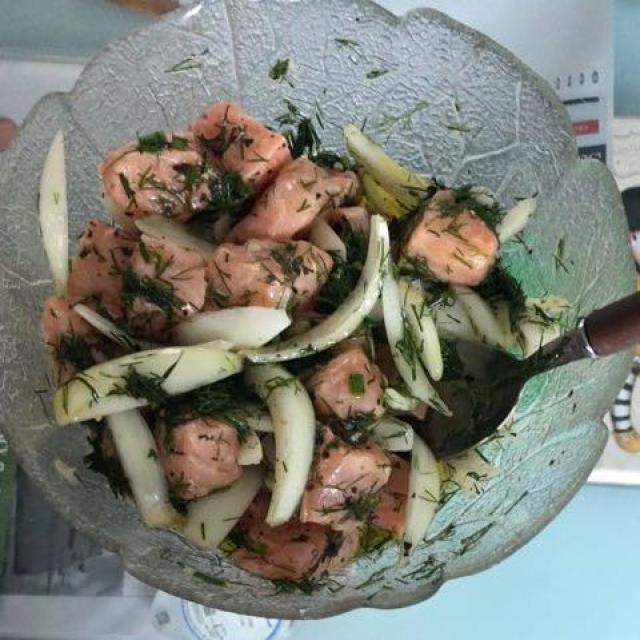onion: (31, 131, 567, 549)
